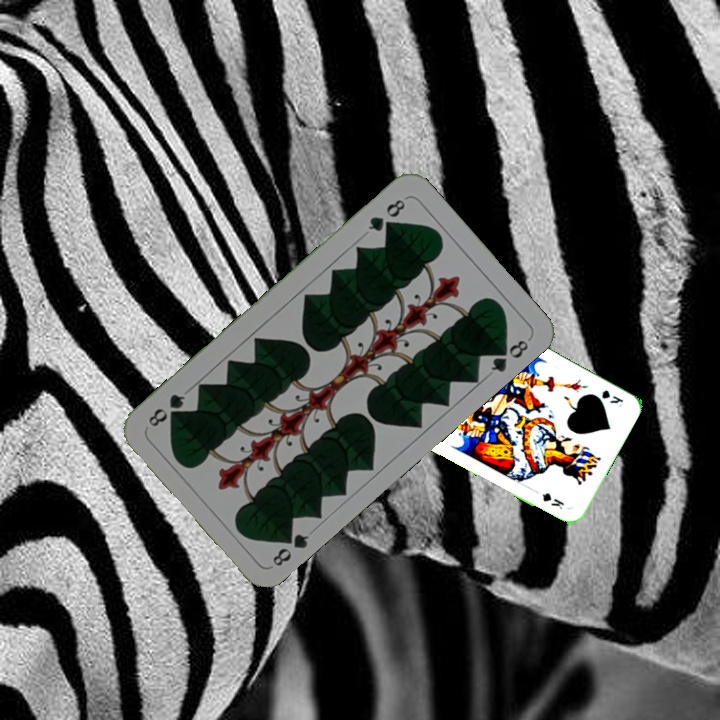G8: (268, 526, 312, 569), (364, 195, 408, 235)
GK: (597, 386, 626, 409)
